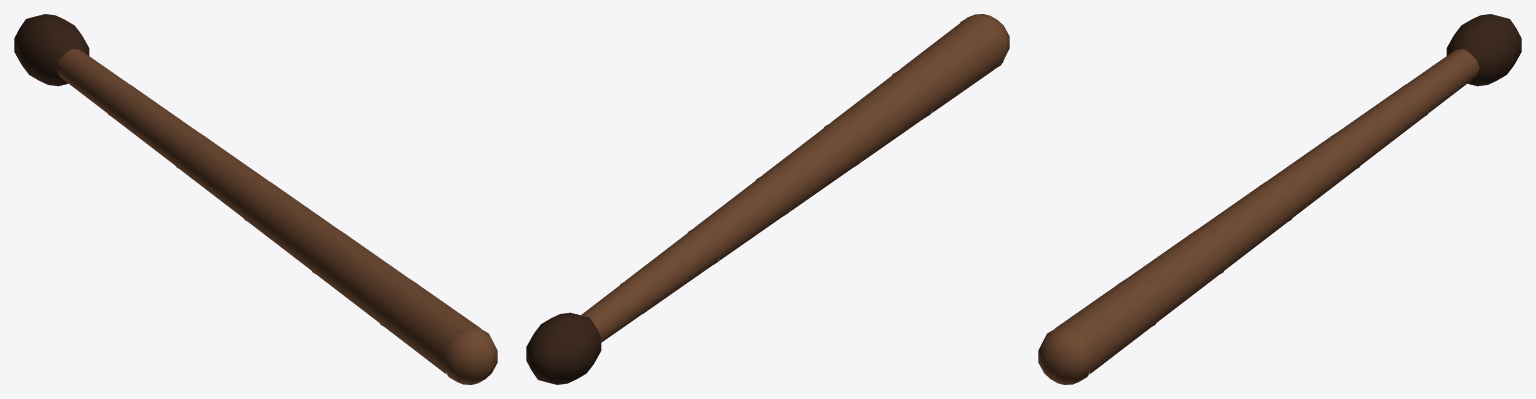
File: monkey_tail.glb
3 renders of one model, left to right at view 1: azimuth 30°, elevation 25°; view 2: azimuth 150°, elevation 25°; view 3: azimuth 330°, elevation 25°, orthographic.
Visible parts, largest first — view 1: monkey_tail, monkey_tail_seg_06, monkey_tail_seg_02, monkey_tail_seg_03, monkey_tail_seg_04, monkey_tail_seg_05; view 2: monkey_tail_seg_06, monkey_tail, monkey_tail_seg_02, monkey_tail_seg_03, monkey_tail_seg_04, monkey_tail_seg_05; view 3: monkey_tail, monkey_tail_seg_06, monkey_tail_seg_02, monkey_tail_seg_03, monkey_tail_seg_04, monkey_tail_seg_05.
Part boxes in pixels (left/top/right/bottom): monkey_tail: left=375, top=277, right=497, bottom=384; monkey_tail_seg_06: left=14, top=14, right=128, bottom=112; monkey_tail_seg_02: left=307, top=228, right=410, bottom=321; monkey_tail_seg_03: left=240, top=179, right=339, bottom=269; monkey_tail_seg_04: left=172, top=131, right=269, bottom=217; monkey_tail_seg_05: left=104, top=82, right=198, bottom=164; monkey_tail_seg_06: left=526, top=281, right=649, bottom=384; monkey_tail: left=892, top=14, right=1009, bottom=117; monkey_tail_seg_02: left=824, top=70, right=935, bottom=166; monkey_tail_seg_03: left=756, top=123, right=863, bottom=215; monkey_tail_seg_04: left=688, top=175, right=792, bottom=264; monkey_tail_seg_05: left=620, top=228, right=720, bottom=313; monkey_tail: left=1038, top=277, right=1160, bottom=384; monkey_tail_seg_06: left=1407, top=14, right=1521, bottom=112; monkey_tail_seg_02: left=1125, top=228, right=1228, bottom=321; monkey_tail_seg_03: left=1196, top=179, right=1295, bottom=269; monkey_tail_seg_04: left=1266, top=131, right=1363, bottom=217; monkey_tail_seg_05: left=1337, top=82, right=1431, bottom=164.
Size of the model in its own units: 0.0663 by 0.068 by 0.9151.
